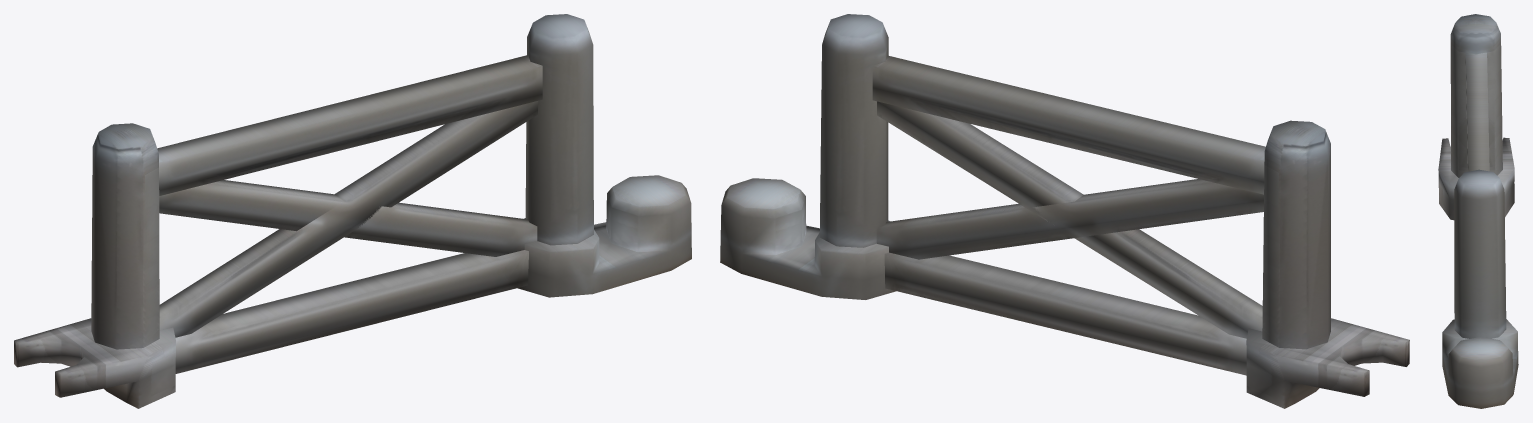
Rendered from Fence_270tris.FBX.
The picture shows the model from 3 angles, left to right: view 1: azimuth 30°, elevation 25°; view 2: azimuth 150°, elevation 25°; view 3: azimuth 270°, elevation 25°; orthographic projection. The views are drawn at different scales.
Visible parts, largest first — view 1: Model; view 2: Model; view 3: Model.
Part boxes in pixels (x1,y1,x2,y2): Model: (14, 14, 691, 408); Model: (720, 14, 1409, 408); Model: (1438, 14, 1518, 408).
Size of the model in its own units: 40.57 by 15.15 by 5.85.
1 material, 1 textured.
